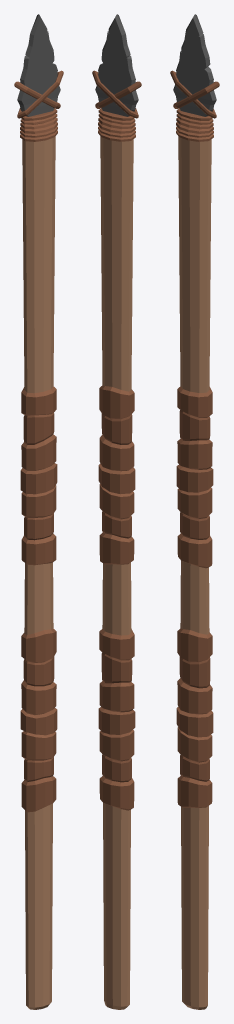
File: Stone Spear.fbx
3 views of the same model, side by side, from view 1: azimuth 30°, elevation 25°; view 2: azimuth 150°, elevation 25°; view 3: azimuth 330°, elevation 25° (orthographic).
Visible parts, largest first — view 1: Stone Spear; view 2: Stone Spear; view 3: Stone Spear.
Boxes of the visible parts, x1,y1,x2,y2 form: Stone Spear: [14, 14, 63, 1009]; Stone Spear: [92, 14, 141, 1009]; Stone Spear: [170, 14, 219, 1009].
Size of the model in its own units: 11.12 by 212 by 5.48.
